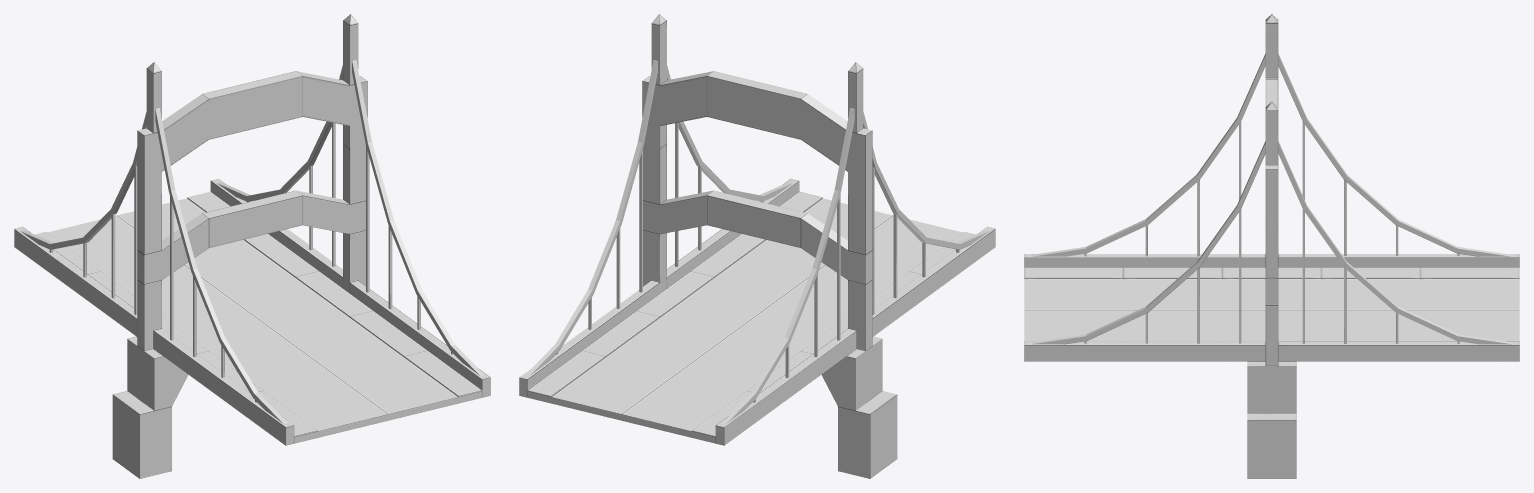
File: Bridge-06.fbx
3 views of the same model, side by side, from view 1: azimuth 30°, elevation 25°; view 2: azimuth 150°, elevation 25°; view 3: azimuth 270°, elevation 25° (orthographic). The views are drawn at different scales.
Parts seen in each view (by area): view 1: Bridge_06; view 2: Bridge_06; view 3: Bridge_06.
Boxes of the visible parts, x1=… form: Bridge_06: x1=14, y1=14, x2=490, y2=478; Bridge_06: x1=519, y1=14, x2=995, y2=478; Bridge_06: x1=1024, y1=14, x2=1519, y2=478.
Bounding box in the file's own units: 10.74 × 16.27 × 20.
